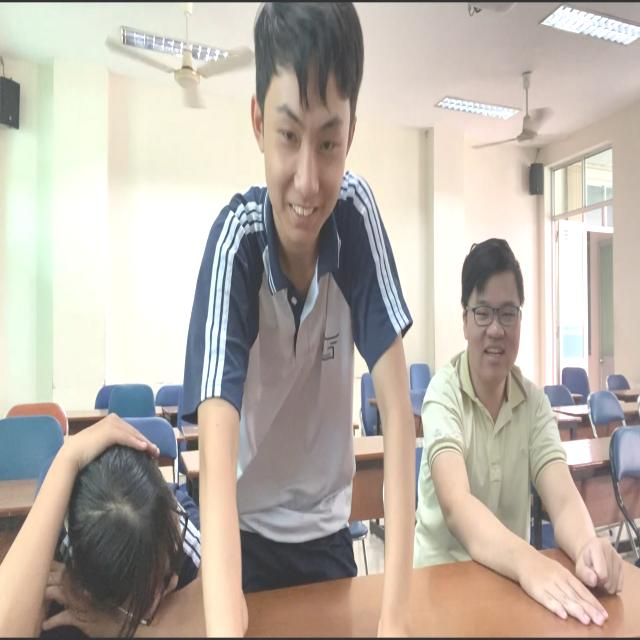sleep: (1, 402, 210, 640)
